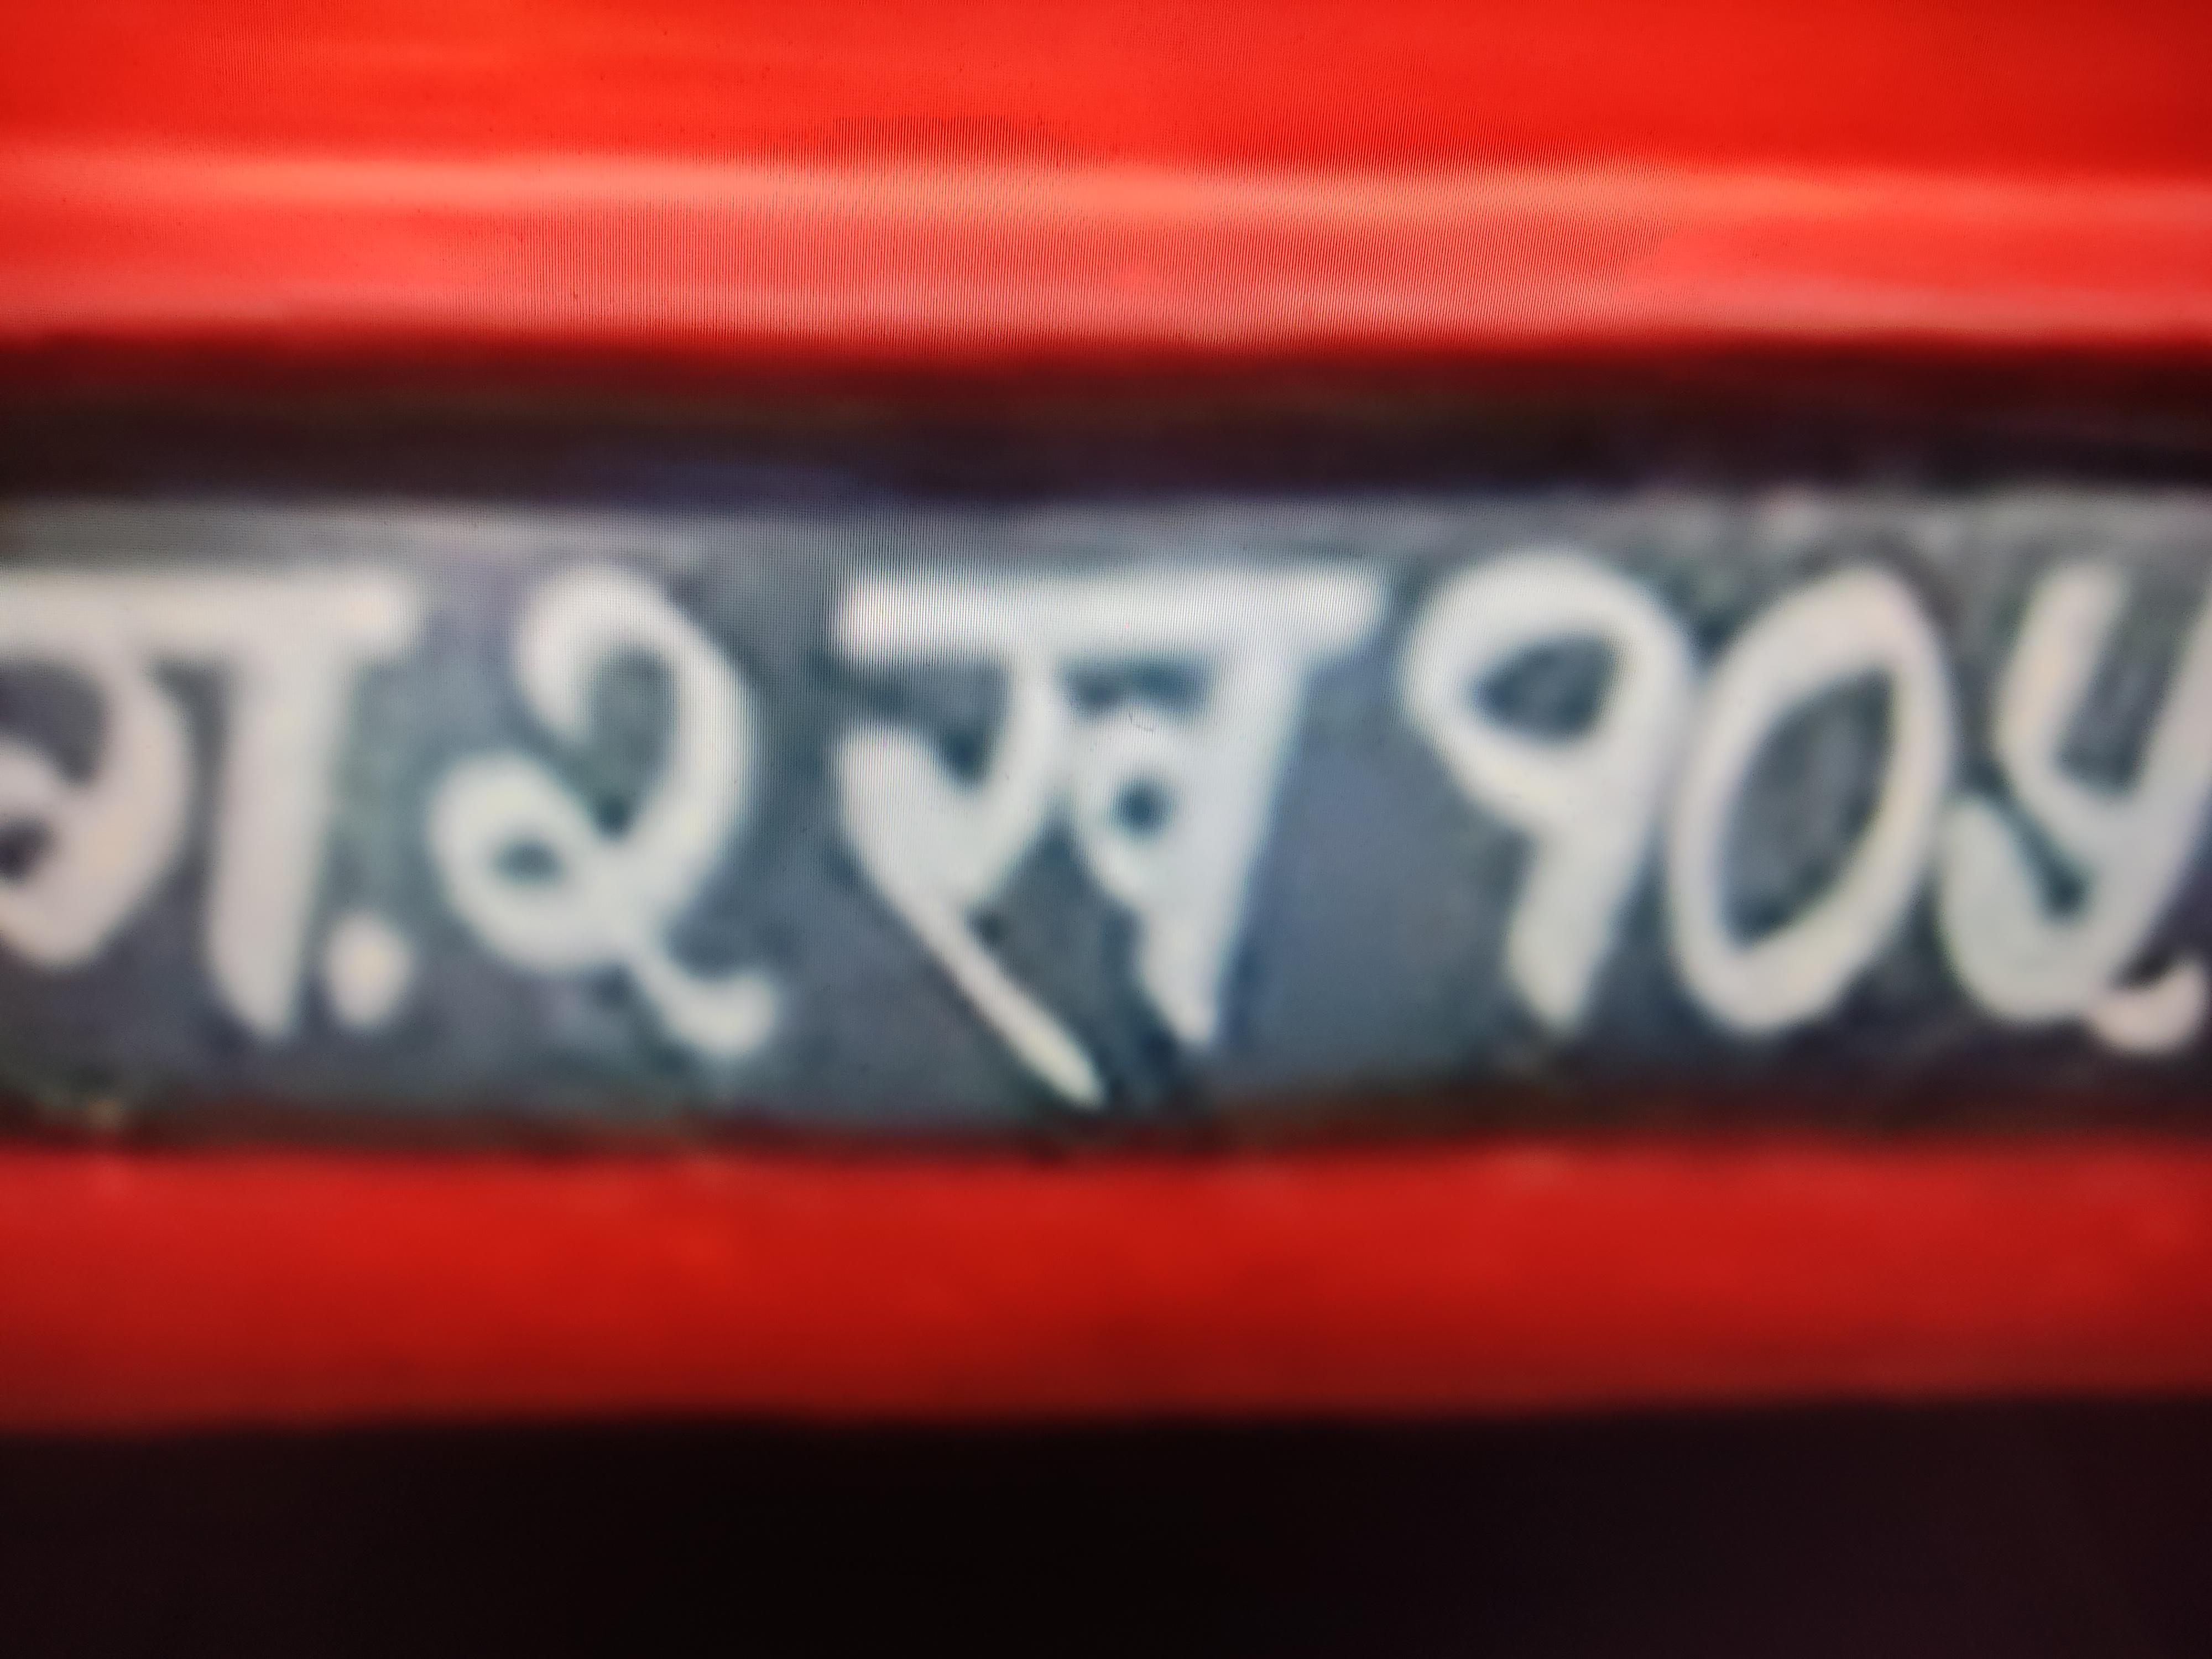0: (1676, 482, 1929, 1066)
1: (1355, 465, 1653, 1088)
2: (366, 559, 790, 1071)
kha: (808, 529, 1352, 1110)
